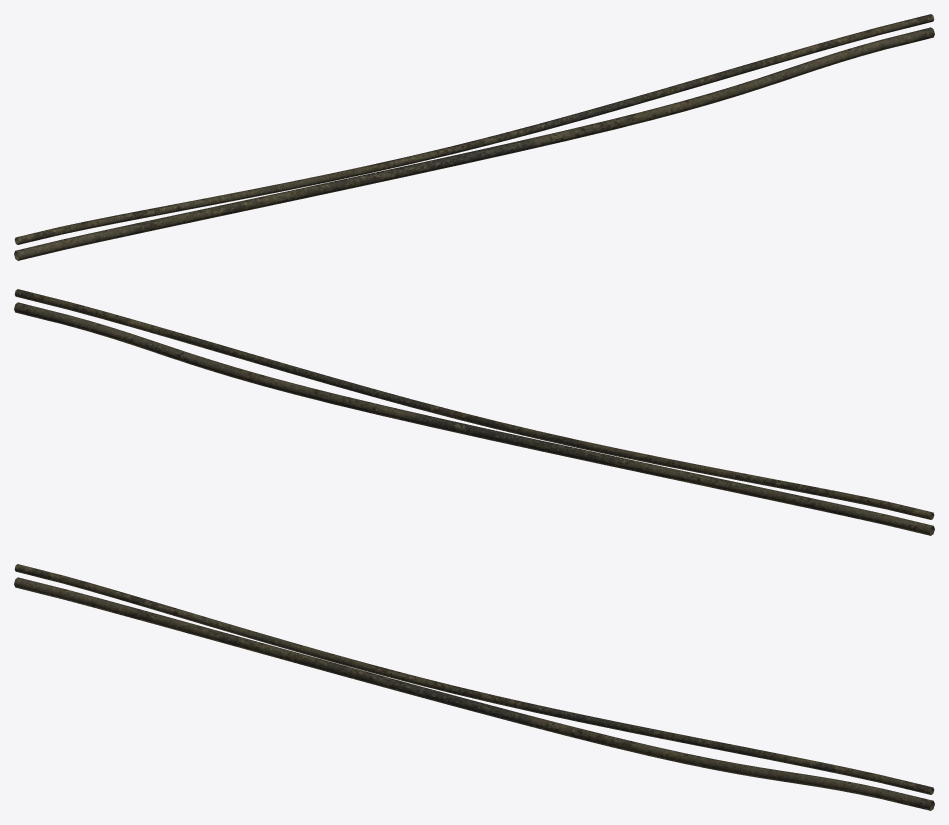
The model's file is wires_hr_3.glb.
3 views of the same model, one above another, from view 1: azimuth 30°, elevation 25°; view 2: azimuth 150°, elevation 25°; view 3: azimuth 330°, elevation 25° (orthographic).
Parts seen in each view (by area): view 1: wires_hr_3; view 2: wires_hr_3; view 3: wires_hr_3.
Boxes of the visible parts, x1,y1,x2,y2 form: wires_hr_3: (14, 14, 934, 260); wires_hr_3: (14, 289, 934, 535); wires_hr_3: (14, 564, 934, 810).
Size of the model in its own units: 4 by 0.1503 by 0.04.
1 material, 1 textured.
